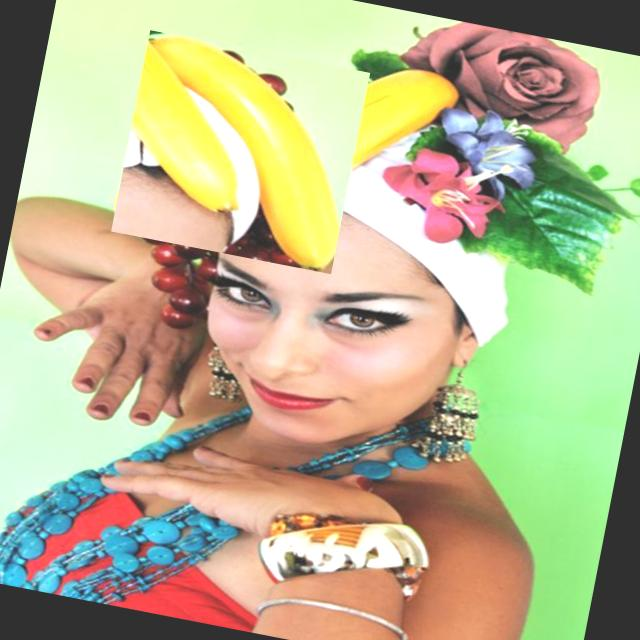Banana: (110, 30, 370, 274), (354, 56, 461, 183)
